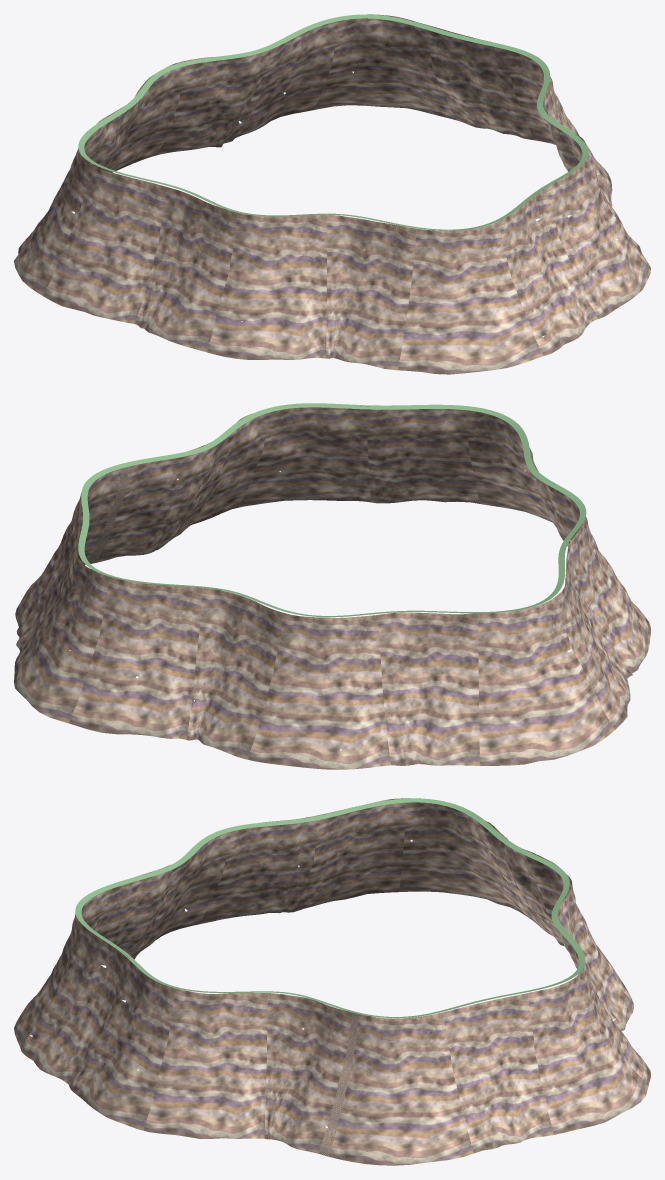
File: CliffWall_plateau_southwest.glb
The picture shows the model from 3 angles, top to bottom: view 1: azimuth 30°, elevation 25°; view 2: azimuth 150°, elevation 25°; view 3: azimuth 270°, elevation 25°; orthographic projection. The views are drawn at different scales.
Parts seen in each view (by area): view 1: CliffWall_plateau_southwest-rock0, CliffWall_plateau_southwest-lip0; view 2: CliffWall_plateau_southwest-rock0, CliffWall_plateau_southwest-lip0; view 3: CliffWall_plateau_southwest-rock0, CliffWall_plateau_southwest-lip0.
Part boxes in pixels (bbox=[...]): CliffWall_plateau_southwest-rock0: bbox=[14, 14, 650, 374]; CliffWall_plateau_southwest-lip0: bbox=[78, 14, 588, 230]; CliffWall_plateau_southwest-rock0: bbox=[14, 404, 650, 769]; CliffWall_plateau_southwest-lip0: bbox=[78, 403, 586, 617]; CliffWall_plateau_southwest-rock0: bbox=[14, 798, 650, 1165]; CliffWall_plateau_southwest-lip0: bbox=[75, 798, 585, 1018].
Size of the model in its own units: 610 by 124 by 599.
Materials: 4 (1 with a texture image).
